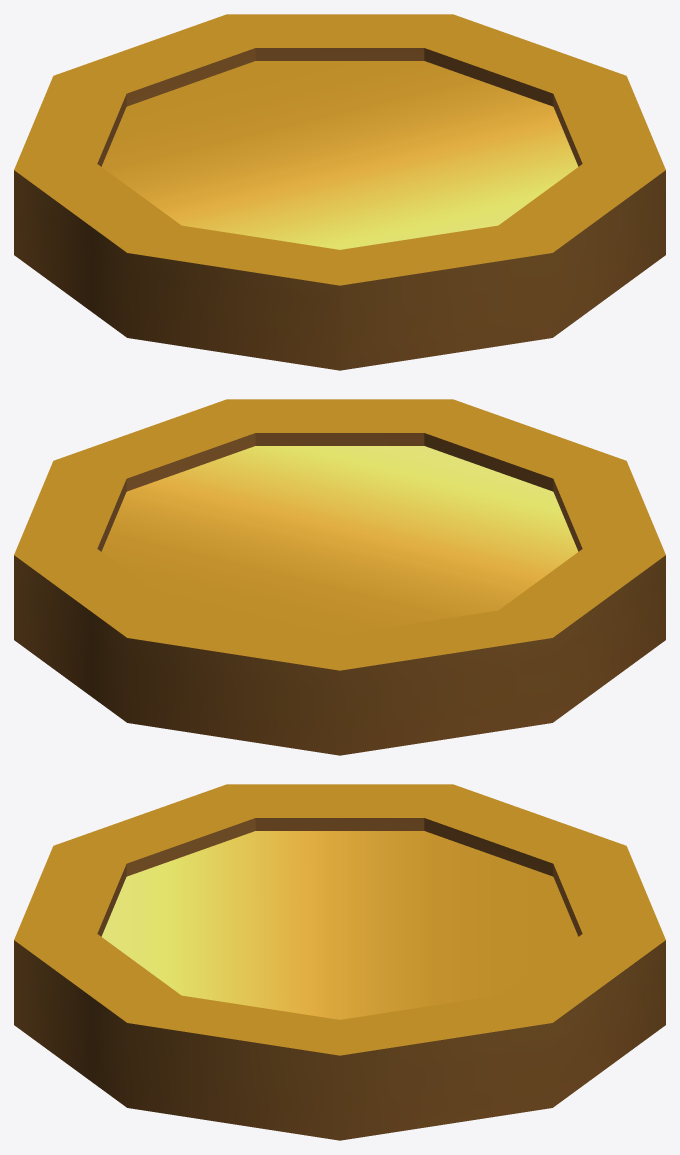
Rendered from Coin.fbx.
The picture shows the model from 3 angles, top to bottom: view 1: azimuth 30°, elevation 25°; view 2: azimuth 150°, elevation 25°; view 3: azimuth 270°, elevation 25°; orthographic projection.
Parts seen in each view (by area): view 1: Msh_Coin; view 2: Msh_Coin; view 3: Msh_Coin.
Boxes of the visible parts, box(x1,y1,x2,y2) form: Msh_Coin: box(14, 14, 665, 370); Msh_Coin: box(14, 399, 665, 755); Msh_Coin: box(14, 784, 665, 1140).
Bounding box in the file's own units: 39.08 × 5.71 × 39.68.
1 material, 1 textured.
